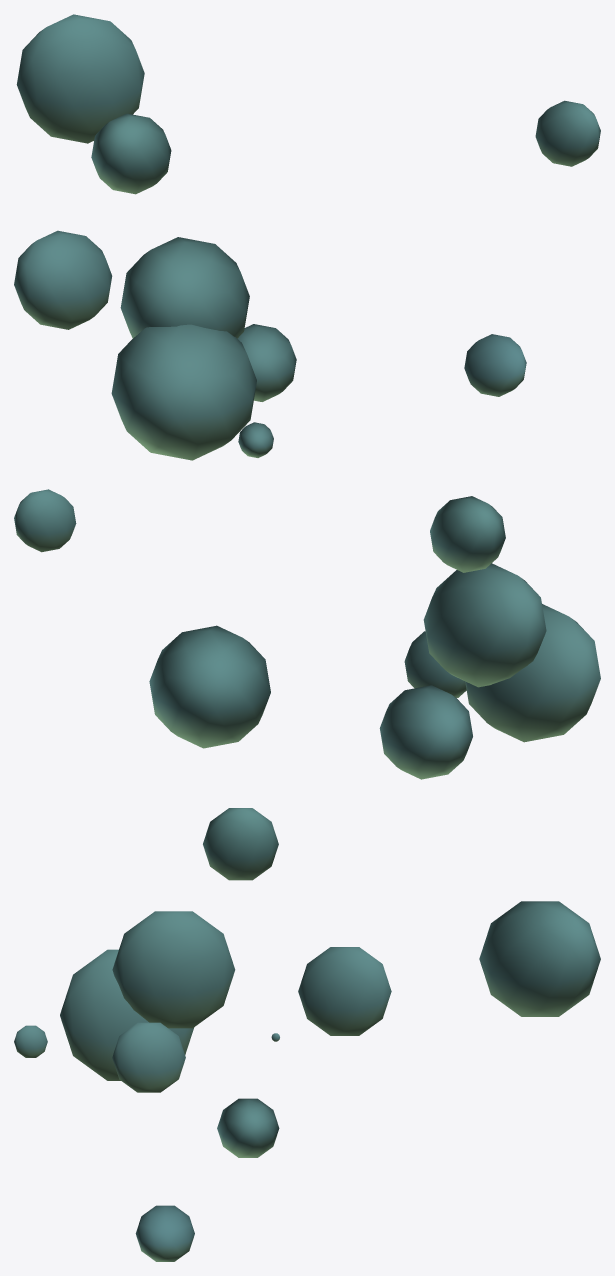
Rendered from bush_c.glb.
The picture shows the model from 3 angles, top to bottom: view 1: azimuth 30°, elevation 25°; view 2: azimuth 150°, elevation 25°; view 3: azimuth 270°, elevation 25°; orthographic projection. The views are drawn at different scales.
Parts seen in each view (by area): view 1: bush_c_LOD0; view 2: bush_c_LOD0; view 3: bush_c_LOD0.
Part boxes in pixels (x1,y1,x2,y2): bush_c_LOD0: [14, 14, 600, 460]; bush_c_LOD0: [14, 489, 600, 779]; bush_c_LOD0: [14, 808, 600, 1261].
Size of what is drawn, in the model's own units: 1.3 by 0.7542 by 1.32.
